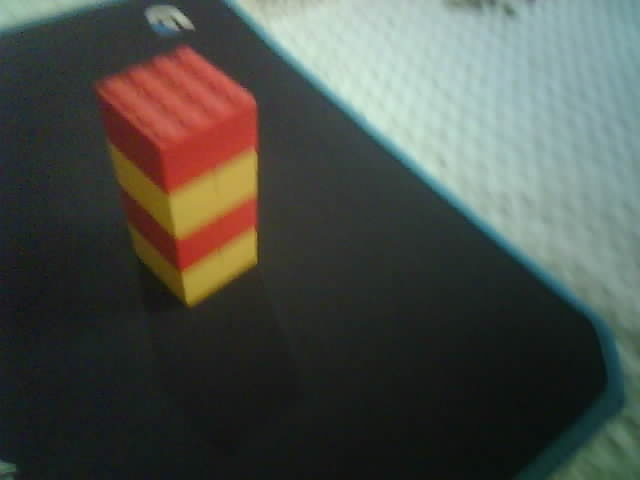lego: (90, 44, 259, 310)
